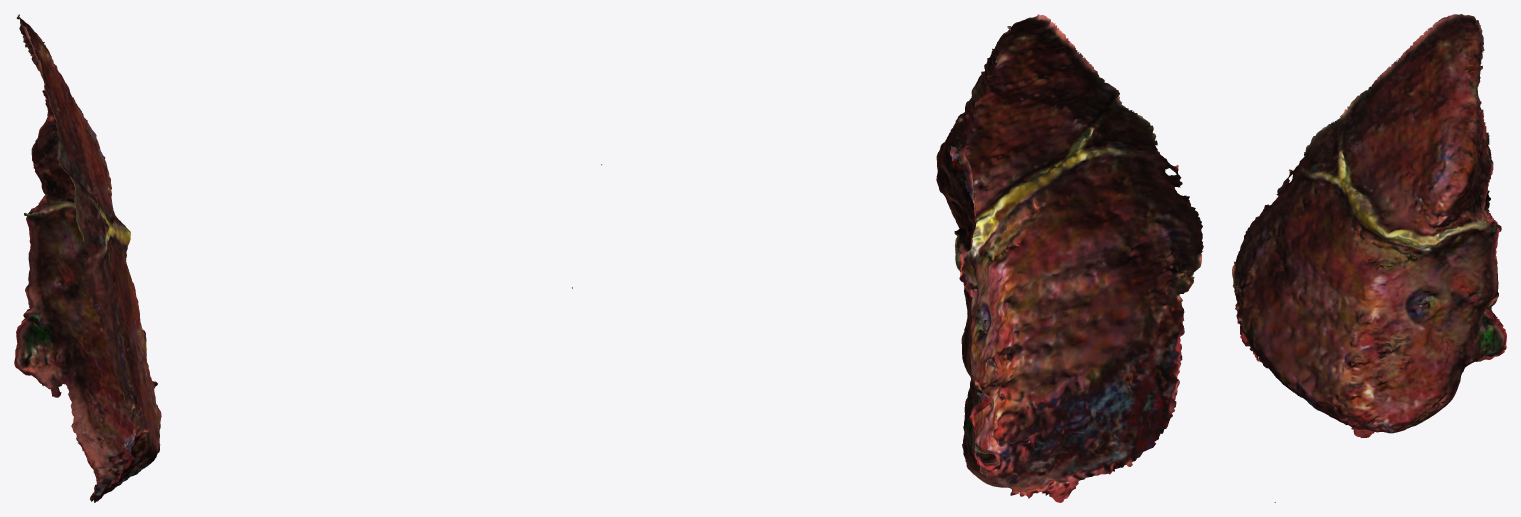
3 views of the same model, side by side, from view 1: azimuth 30°, elevation 25°; view 2: azimuth 150°, elevation 25°; view 3: azimuth 270°, elevation 25° (orthographic). The views are drawn at different scales.
Size of the model in its own units: 0.823 by 0.7228 by 0.4366.
Materials: 1 (1 with a texture image).
